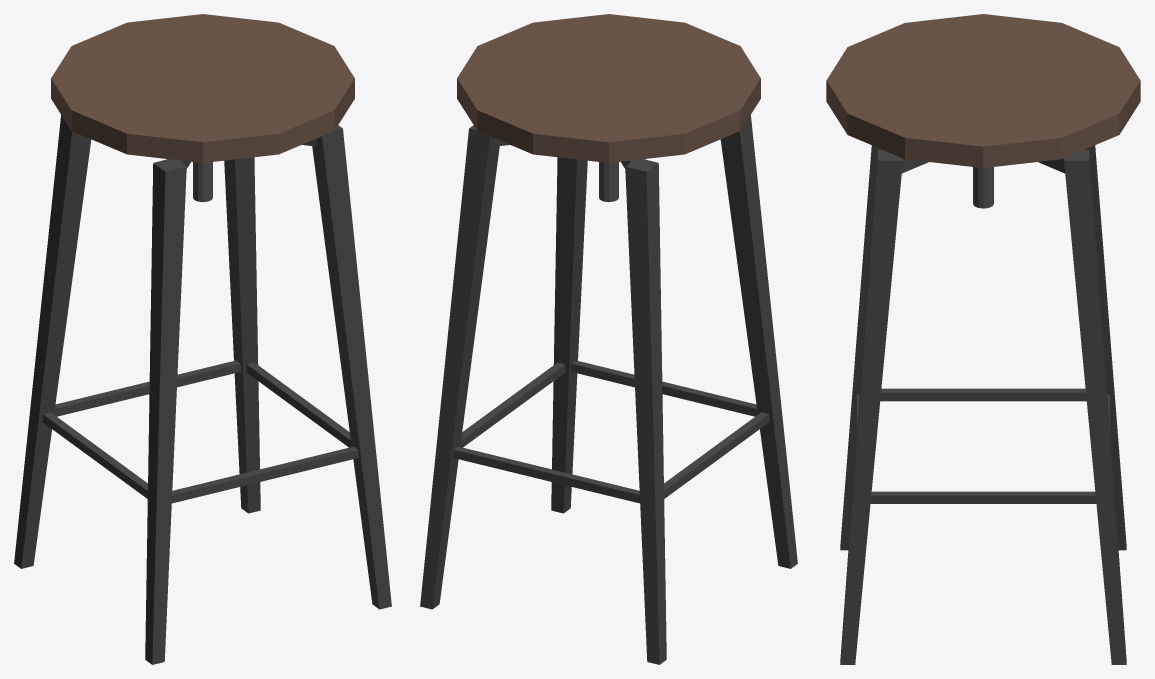
The model's file is Chair_03_C3.fbx.
The picture shows the model from 3 angles, left to right: view 1: azimuth 30°, elevation 25°; view 2: azimuth 150°, elevation 25°; view 3: azimuth 270°, elevation 25°; orthographic projection. The views are drawn at different scales.
Visible parts, largest first — view 1: Chair_03_C3; view 2: Chair_03_C3; view 3: Chair_03_C3.
Part boxes in pixels (box(x1,y1,x2,y2)): Chair_03_C3: box(14, 14, 391, 664); Chair_03_C3: box(420, 14, 797, 664); Chair_03_C3: box(826, 14, 1140, 664).
Size of the model in its own units: 37.05 by 68.24 by 37.05.
